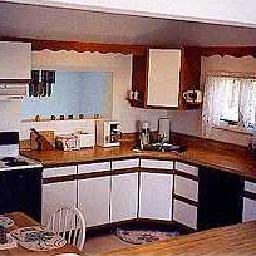Electrodomestico: (1, 137, 41, 211), (201, 169, 242, 222)
Lavaplatos: (135, 136, 192, 155)
